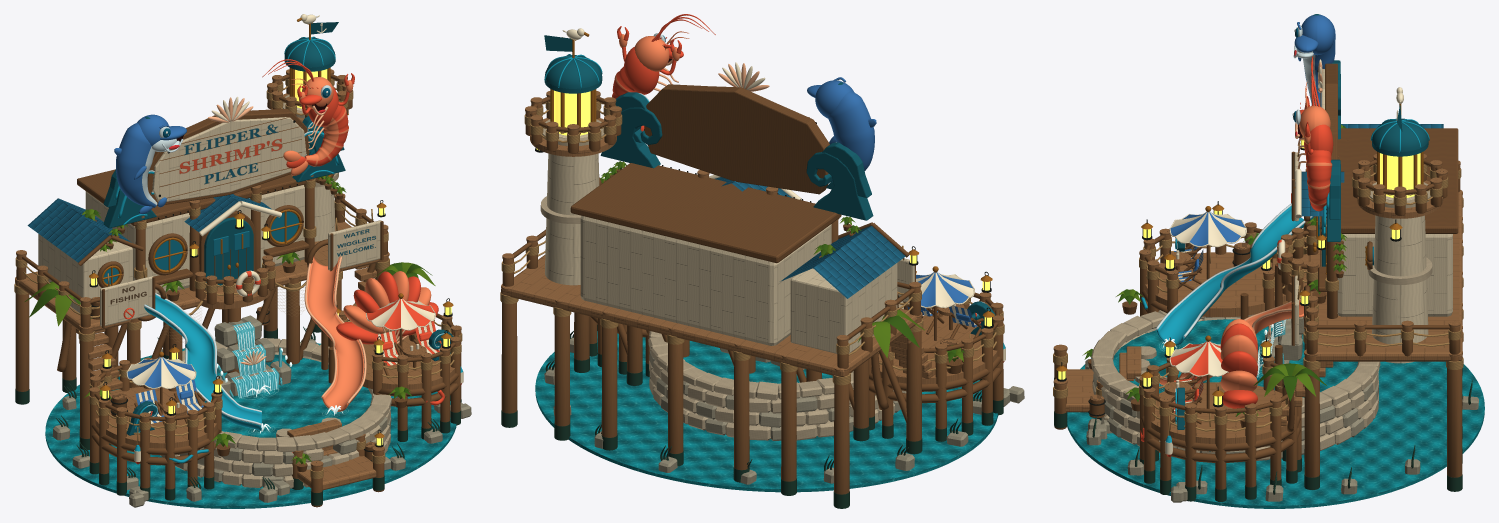
The model's file is flipper-shrimp-ca.glb.
The picture shows the model from 3 angles, left to right: view 1: azimuth 30°, elevation 25°; view 2: azimuth 150°, elevation 25°; view 3: azimuth 270°, elevation 25°; orthographic projection. The views are drawn at different scales.
Parts seen in each view (by area): view 1: Flipper and Shrimp C+A; view 2: Flipper and Shrimp C+A; view 3: Flipper and Shrimp C+A.
Boxes of the visible parts, x1=… form: Flipper and Shrimp C+A: x1=14, y1=14, x2=471, y2=508; Flipper and Shrimp C+A: x1=500, y1=14, x2=1024, y2=508; Flipper and Shrimp C+A: x1=1053, y1=14, x2=1484, y2=508.
Size of the model in its own units: 0.86 by 0.7671 by 0.7818.
Materials: 33 (12 with a texture image).
